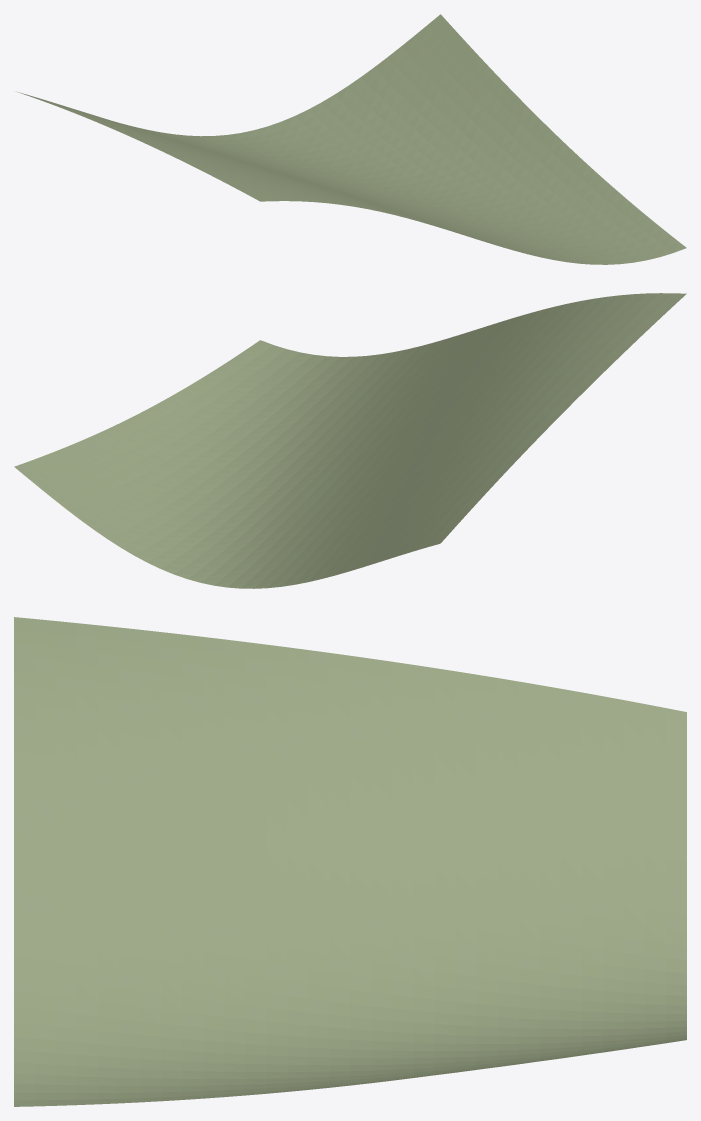
File: expanse-12-23.glb
The picture shows the model from 3 angles, top to bottom: view 1: azimuth 30°, elevation 25°; view 2: azimuth 150°, elevation 25°; view 3: azimuth 270°, elevation 25°; orthographic projection. The views are drawn at different scales.
Parts seen in each view (by area): view 1: expanse-12-23; view 2: expanse-12-23; view 3: expanse-12-23.
Part boxes in pixels (x1,y1,x2,y2): expanse-12-23: (16,14,686,264); expanse-12-23: (14,293,686,588); expanse-12-23: (14,617,686,1106).
Size of the model in its own units: 256 by 95.98 by 256.
